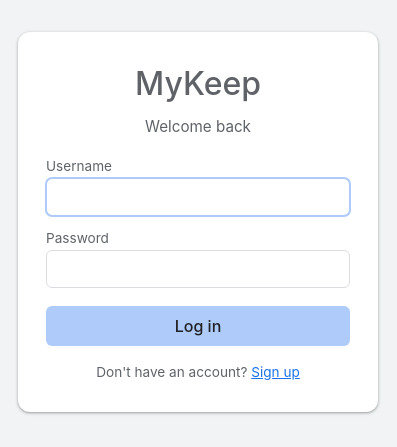
Test: AuthPage › a rejected login shows the server error message
In the field labelled "Username": {"x": 198, "y": 197} [46,178,350,216], type "bob"
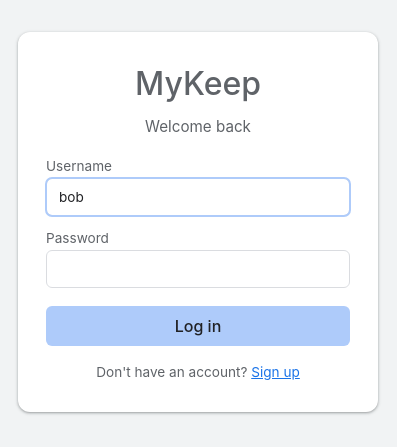
In the password field labelled "Password": {"x": 198, "y": 269} [46,250,350,288], type "password123"
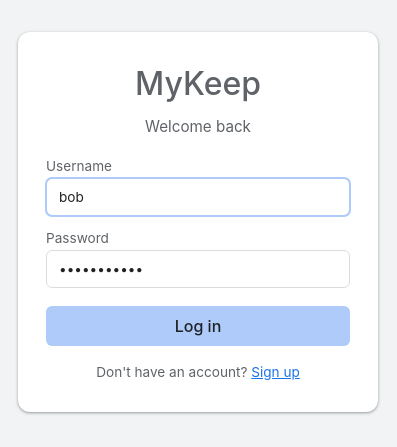
Click the button "Log in": {"x": 198, "y": 326} [46,306,350,346]
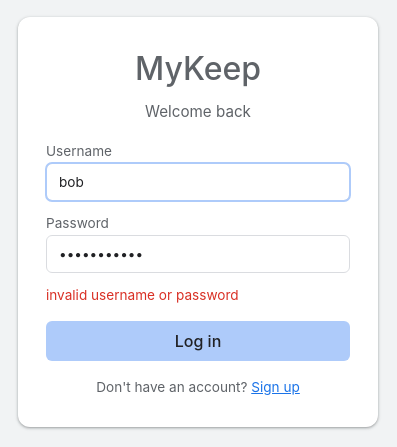
Now the message reads "invalid username or password", box [46,287,239,303]
